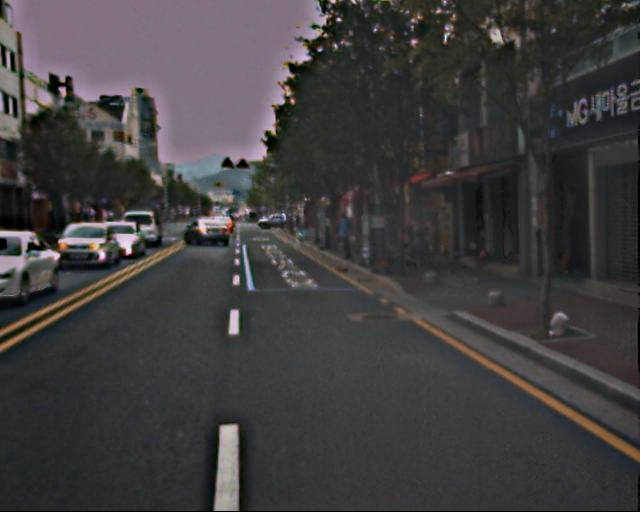person: (335, 211, 355, 259), (409, 222, 428, 269)
